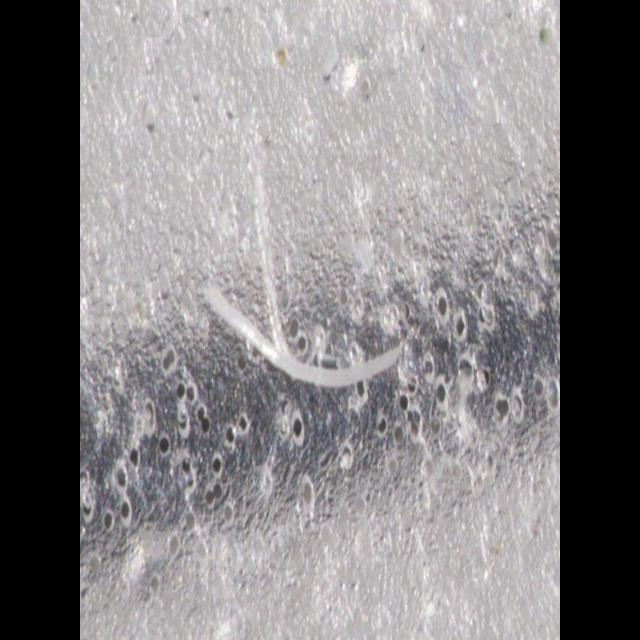Fibre: (198, 161, 418, 409)
